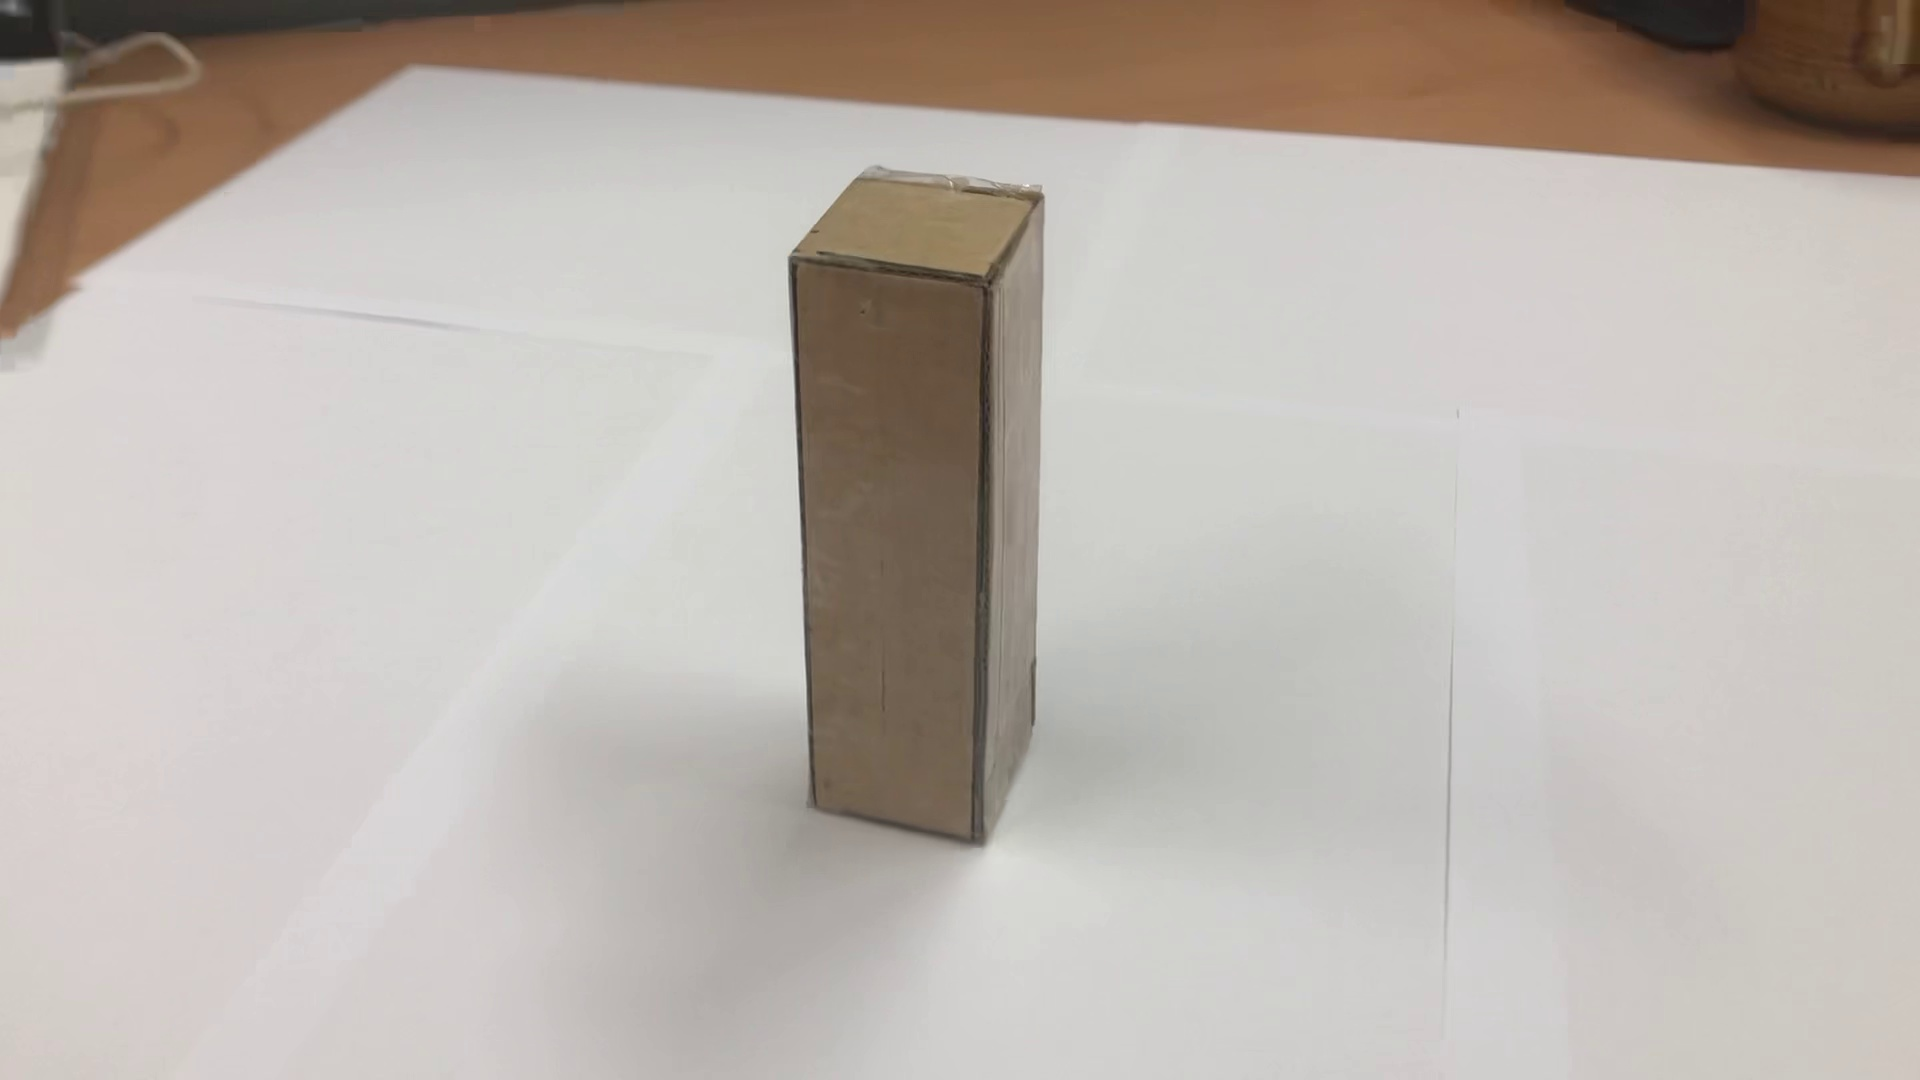box: (781, 138, 1080, 868)
